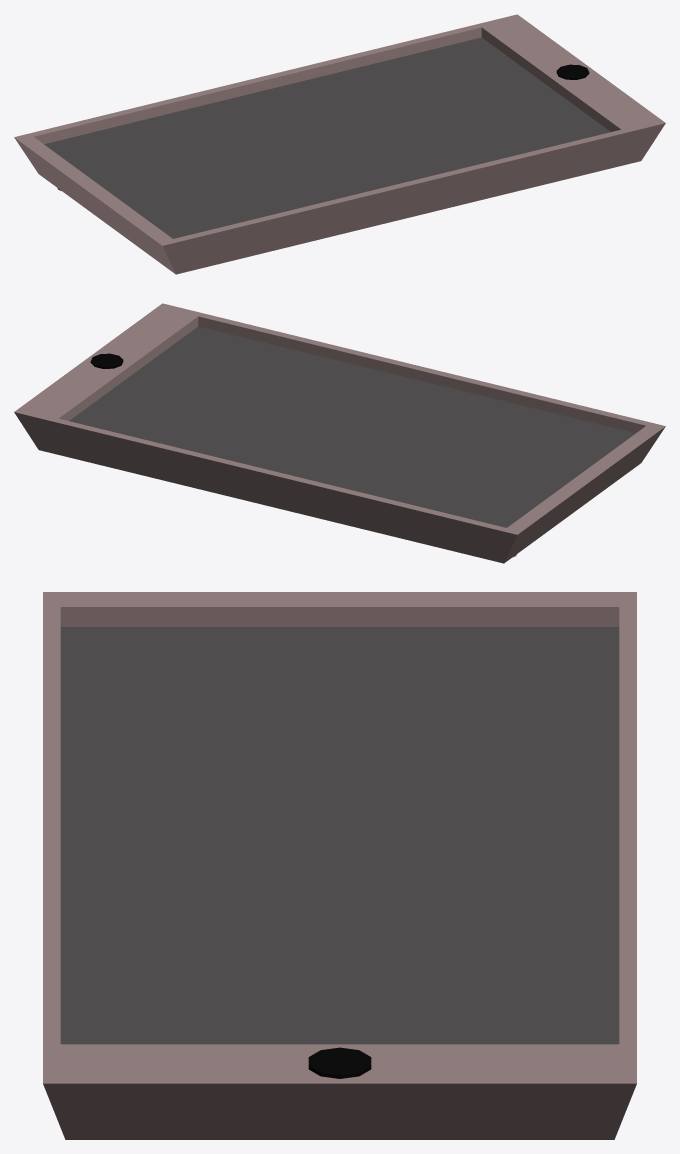
Rendered from SM_Movil.fbx.
3 renders of one model, top to bottom at view 1: azimuth 30°, elevation 25°; view 2: azimuth 150°, elevation 25°; view 3: azimuth 270°, elevation 25°, orthographic. The views are drawn at different scales.
Visible parts, largest first — view 1: pCube1, pCylinder1; view 2: pCube1, pCylinder1; view 3: pCube1, pCylinder1.
Boxes of the visible parts, bbox=[...] form: pCube1: bbox=[14, 14, 665, 274]; pCylinder1: bbox=[556, 64, 589, 79]; pCube1: bbox=[14, 303, 665, 563]; pCylinder1: bbox=[90, 353, 123, 368]; pCube1: bbox=[43, 592, 636, 1139]; pCylinder1: bbox=[308, 1047, 371, 1078].
Bounding box in the file's own units: 7.92 × 0.6674 × 4.05.
